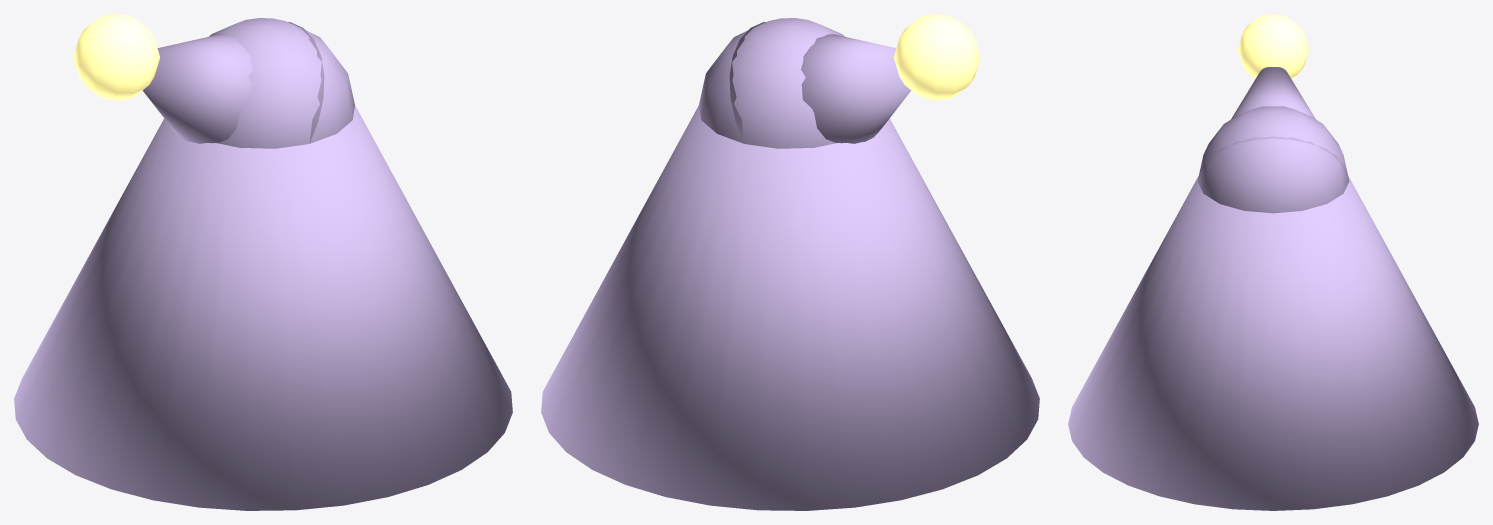
The model's file is wizard_cap.glb.
3 views of the same model, side by side, from view 1: azimuth 30°, elevation 25°; view 2: azimuth 150°, elevation 25°; view 3: azimuth 270°, elevation 25° (orthographic). The views are drawn at different scales.
Parts seen in each view (by area): view 1: wizard_cap; view 2: wizard_cap; view 3: wizard_cap.
Boxes of the visible parts, x1,y1,x2,y2 form: wizard_cap: (14,14,512,510); wizard_cap: (541,14,1039,510); wizard_cap: (1068,14,1478,510).
Size of the model in its own units: 0.46 by 0.43 by 0.46.
